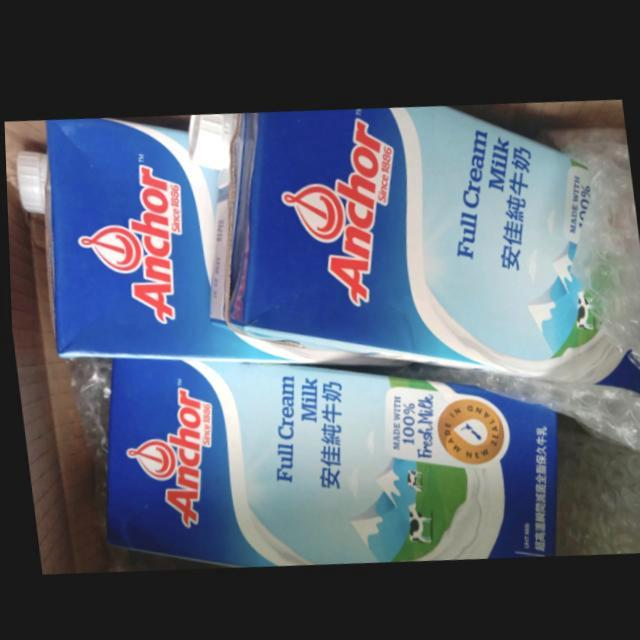cardboard: (4, 119, 165, 574), (451, 92, 625, 126)
